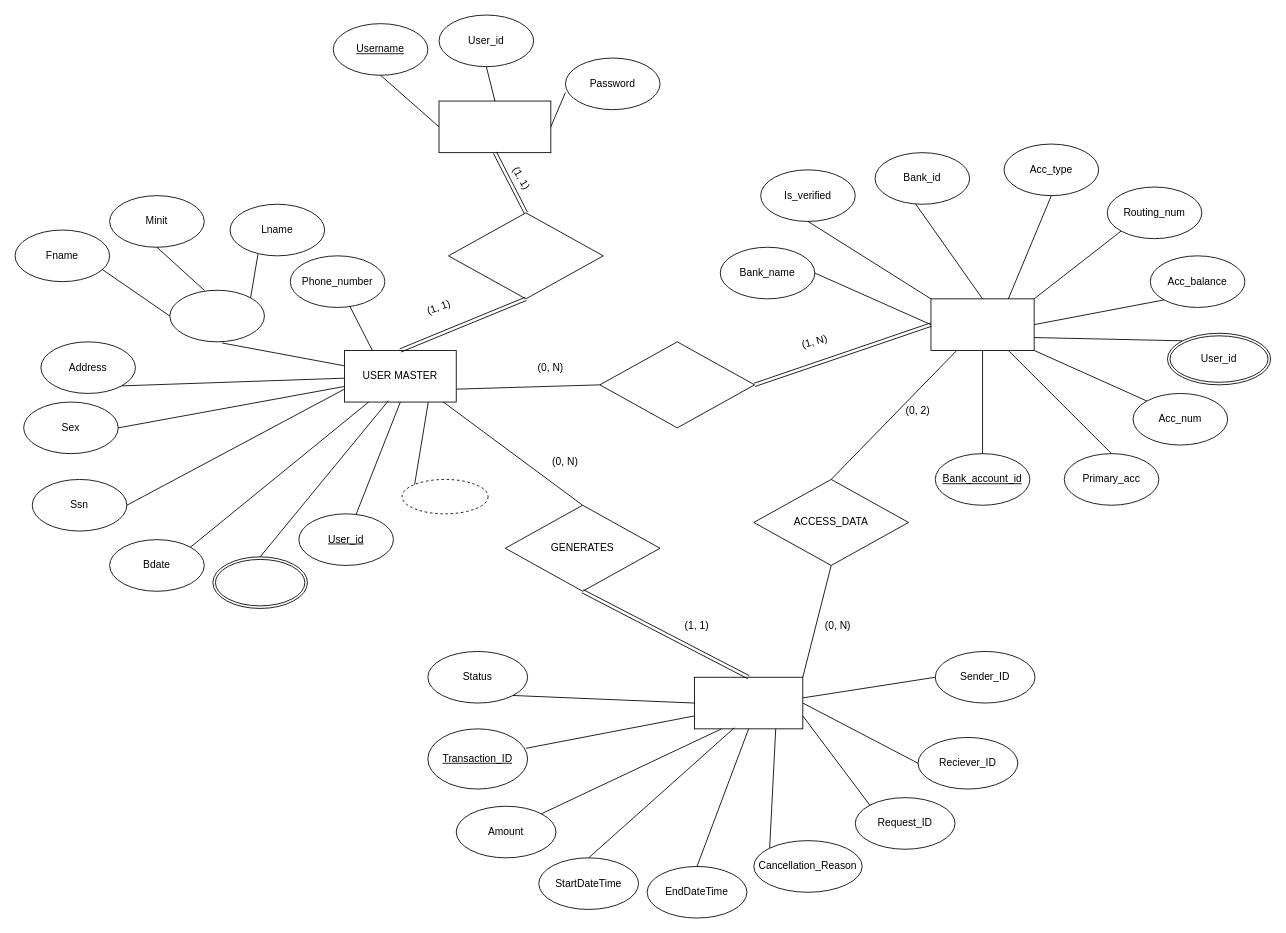
This 1286x933 diagram has some shape labels left out. The centre of each missing label's shape, as x and y in pixels:
BANK DETAILS: point 982,324
CREATES: point 525,255
Email_id: point 259,582
LINKS: point 677,384
LOGIN_DETAILS: point 494,126
Name: point 216,315
NumOfUsers: point 444,496
TRANSACTIONS: point 748,702
